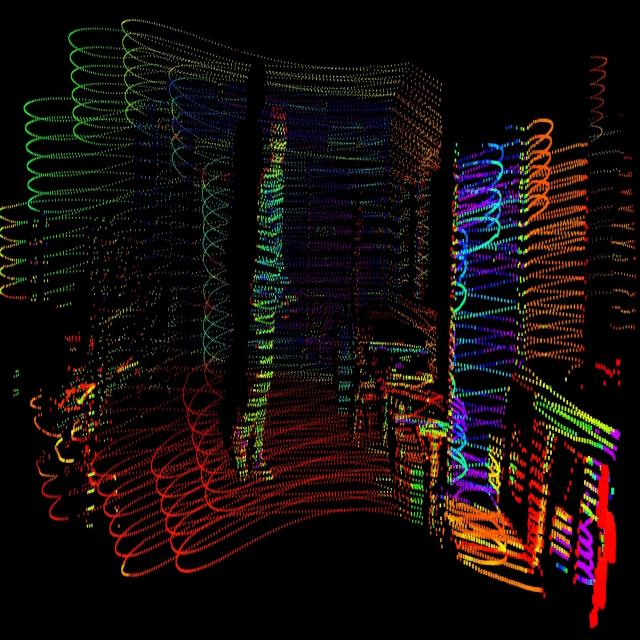human: (232, 101, 303, 495)
